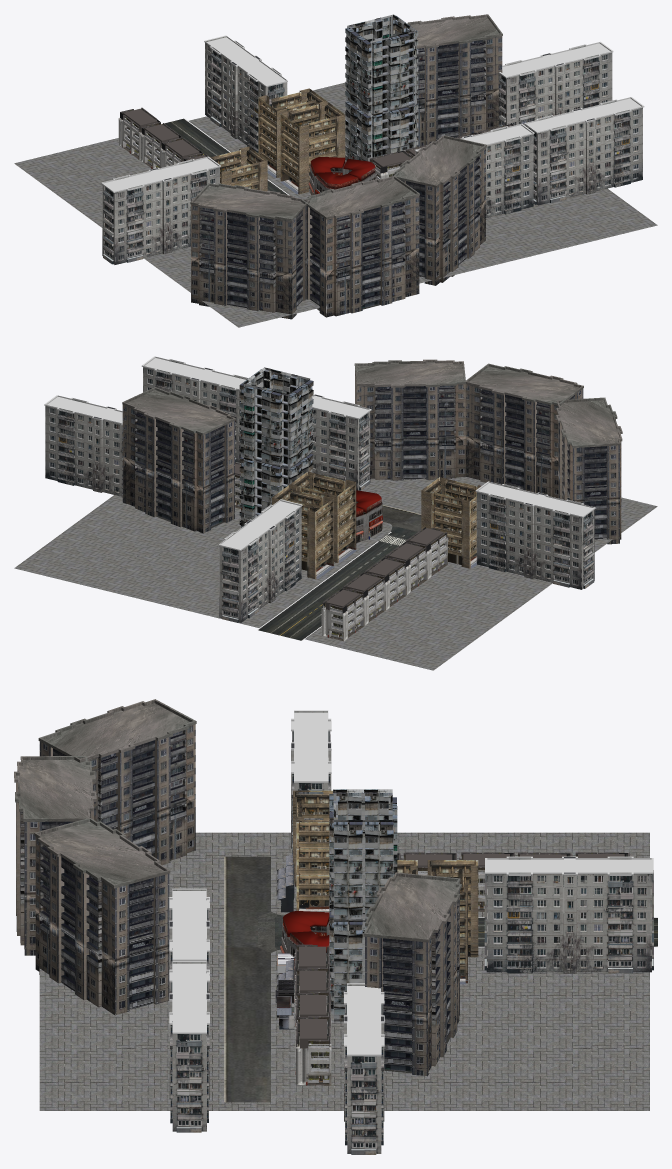
The model's file is city-street_free_for_game.glb.
The picture shows the model from 3 angles, top to bottom: view 1: azimuth 30°, elevation 25°; view 2: azimuth 150°, elevation 25°; view 3: azimuth 270°, elevation 25°; orthographic projection. The views are drawn at different scales.
Parts seen in each view (by area): view 1: Plane.001, Cube.010, Cube.011, Cube, Cube.007, Cube.009, Cube.012, Cube.006, Cube.003, Cube.008, 2 (1).001, 1 (1).004 (+14 smaller); view 2: Plane.001, Cube, Cube.009, Cube.010, Cube.012, Cube.003, Cube.011, Cube.006, Cube.008, Plane, Cube.007, 2 (1).004 (+14 smaller); view 3: Plane.001, Cube.009, Cube.003, Cube, Cube.011, Plane, Cube.010, Cube.007, Cube.006, 1 (1).007, 2 (1).004, Cube.012 (+12 smaller).
Boxes of the visible parts, box(x1,y1,x2,y2) form: Plane.001: box(14, 82, 657, 327); Cube.010: box(301, 176, 419, 317); Cube.011: box(190, 183, 309, 319); Cube: box(407, 14, 502, 146); Cube.007: box(524, 97, 644, 205); Cube.009: box(393, 135, 486, 285); Cube.012: box(101, 156, 220, 264); Cube.006: box(499, 41, 613, 126); Cube.003: box(204, 35, 287, 152); Cube.008: box(414, 123, 534, 217); 2 (1).001: box(280, 101, 345, 194); 1 (1).004: box(370, 30, 416, 115); Plane.001: box(14, 462, 657, 670); Cube: box(122, 387, 235, 533); Cube.009: box(354, 359, 465, 480); Cube.010: box(465, 363, 583, 498); Cube.012: box(475, 481, 595, 589); Cube.003: box(218, 499, 302, 622); Cube.011: box(556, 397, 622, 544); Cube.006: box(44, 395, 122, 497); Cube.008: box(311, 394, 371, 490); Plane: box(257, 505, 421, 640); Cube.007: box(141, 356, 248, 462); 2 (1).004: box(421, 477, 481, 568); Plane.001: box(39, 832, 649, 1110); Cube.009: box(34, 817, 170, 1015); Cube.003: box(484, 856, 653, 973); Cube: box(363, 872, 461, 1076); Cube.011: box(38, 699, 196, 865); Plane: box(224, 856, 657, 1102); Cube.010: box(14, 756, 96, 955); Cube.007: box(169, 961, 209, 1132); Cube.006: box(344, 983, 384, 1154); 1 (1).007: box(334, 820, 393, 921); 2 (1).004: box(293, 790, 332, 912); Cube.012: box(291, 710, 331, 854).
Size of the model in its own units: 10.87 by 3.07 by 8.58.
18 materials, 16 textured.
